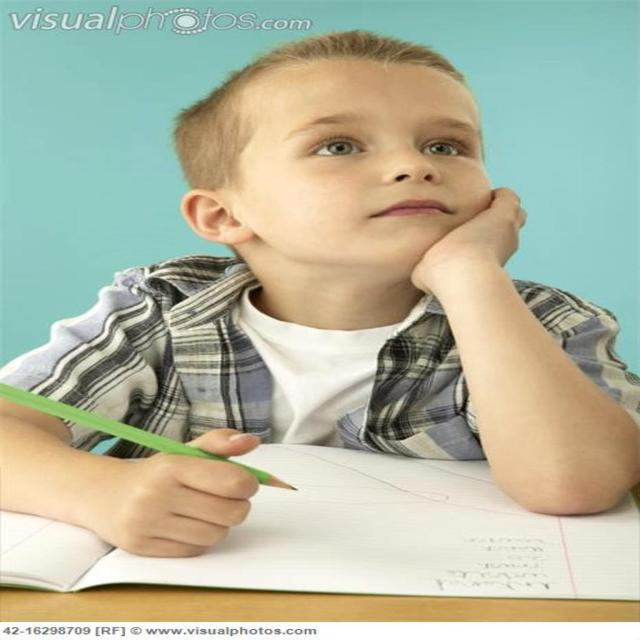Face: (206, 43, 516, 275)
